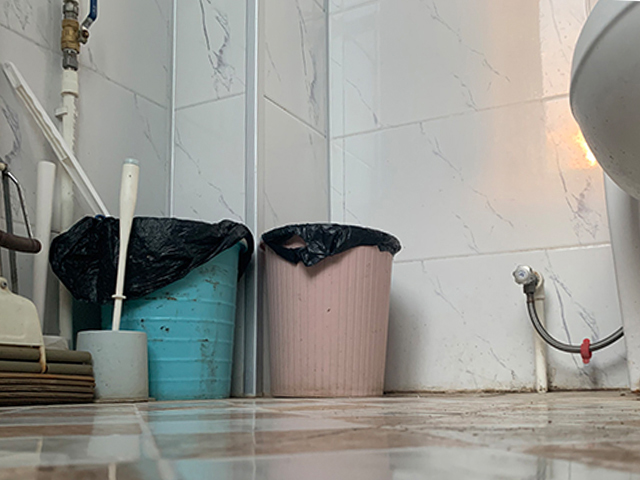trashcan: (92, 215, 254, 402), (260, 222, 402, 398)
